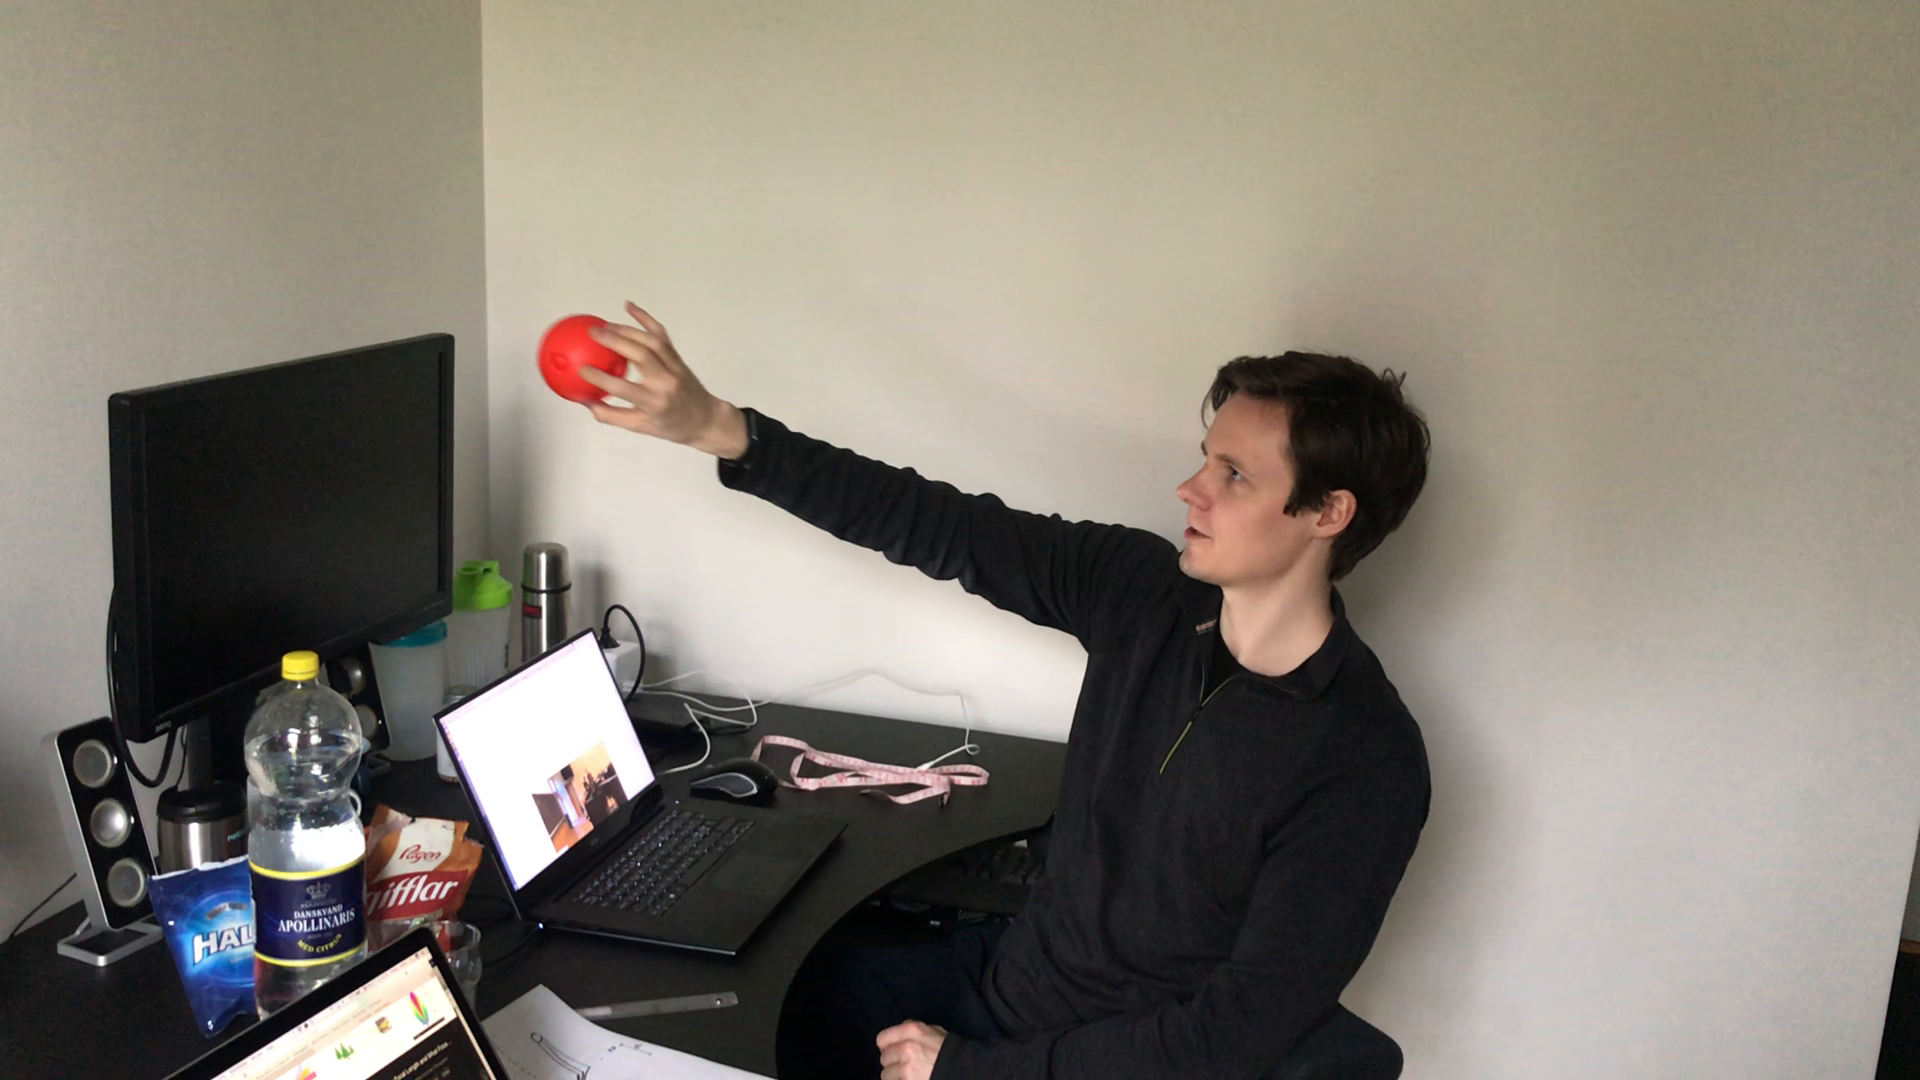Ball: (541, 313, 629, 405)
